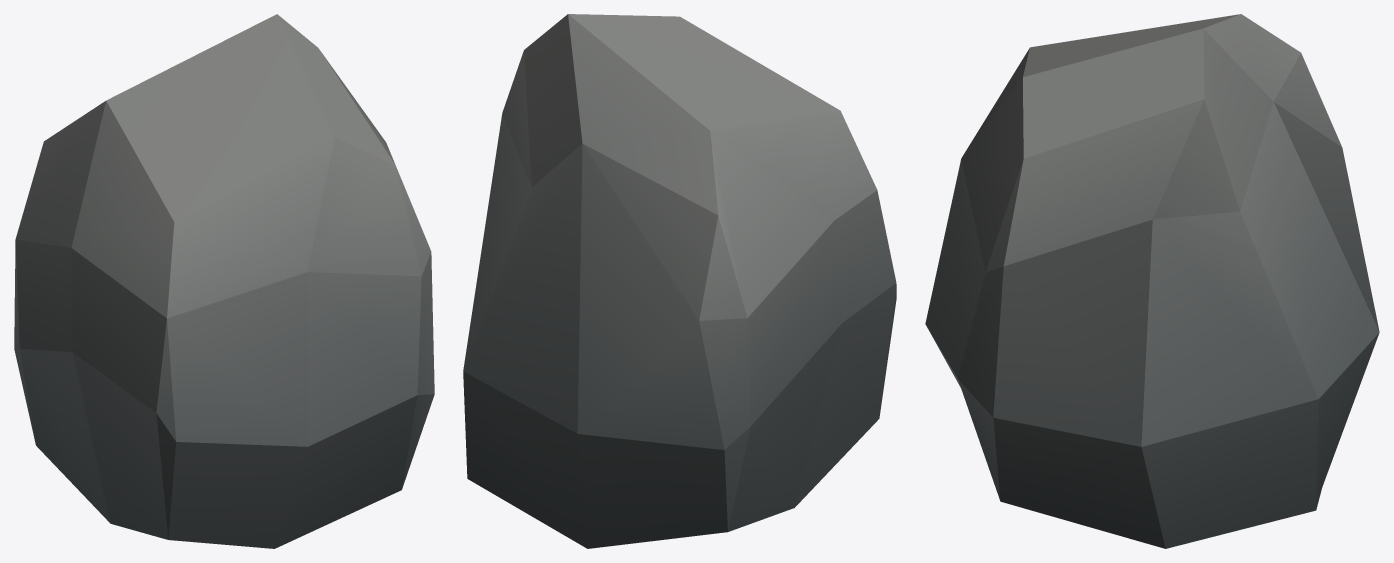
File: Rock_Small_A.fbx
3 views of the same model, side by side, from view 1: azimuth 30°, elevation 25°; view 2: azimuth 150°, elevation 25°; view 3: azimuth 270°, elevation 25° (orthographic). The views are drawn at different scales.
Parts seen in each view (by area): view 1: Rock_Small_A; view 2: Rock_Small_A; view 3: Rock_Small_A.
Part boxes in pixels (box(x1,y1,x2,y2)): Rock_Small_A: box(14, 14, 434, 548); Rock_Small_A: box(463, 14, 896, 548); Rock_Small_A: box(925, 14, 1379, 548).
Bounding box in the file's own units: 54.68 × 78.71 × 60.99.
